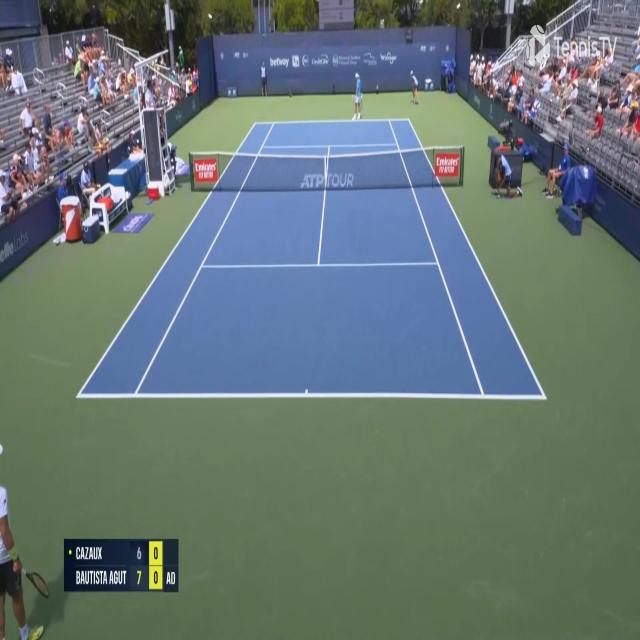tennis-player: (0, 422, 53, 639), (352, 70, 365, 124)
